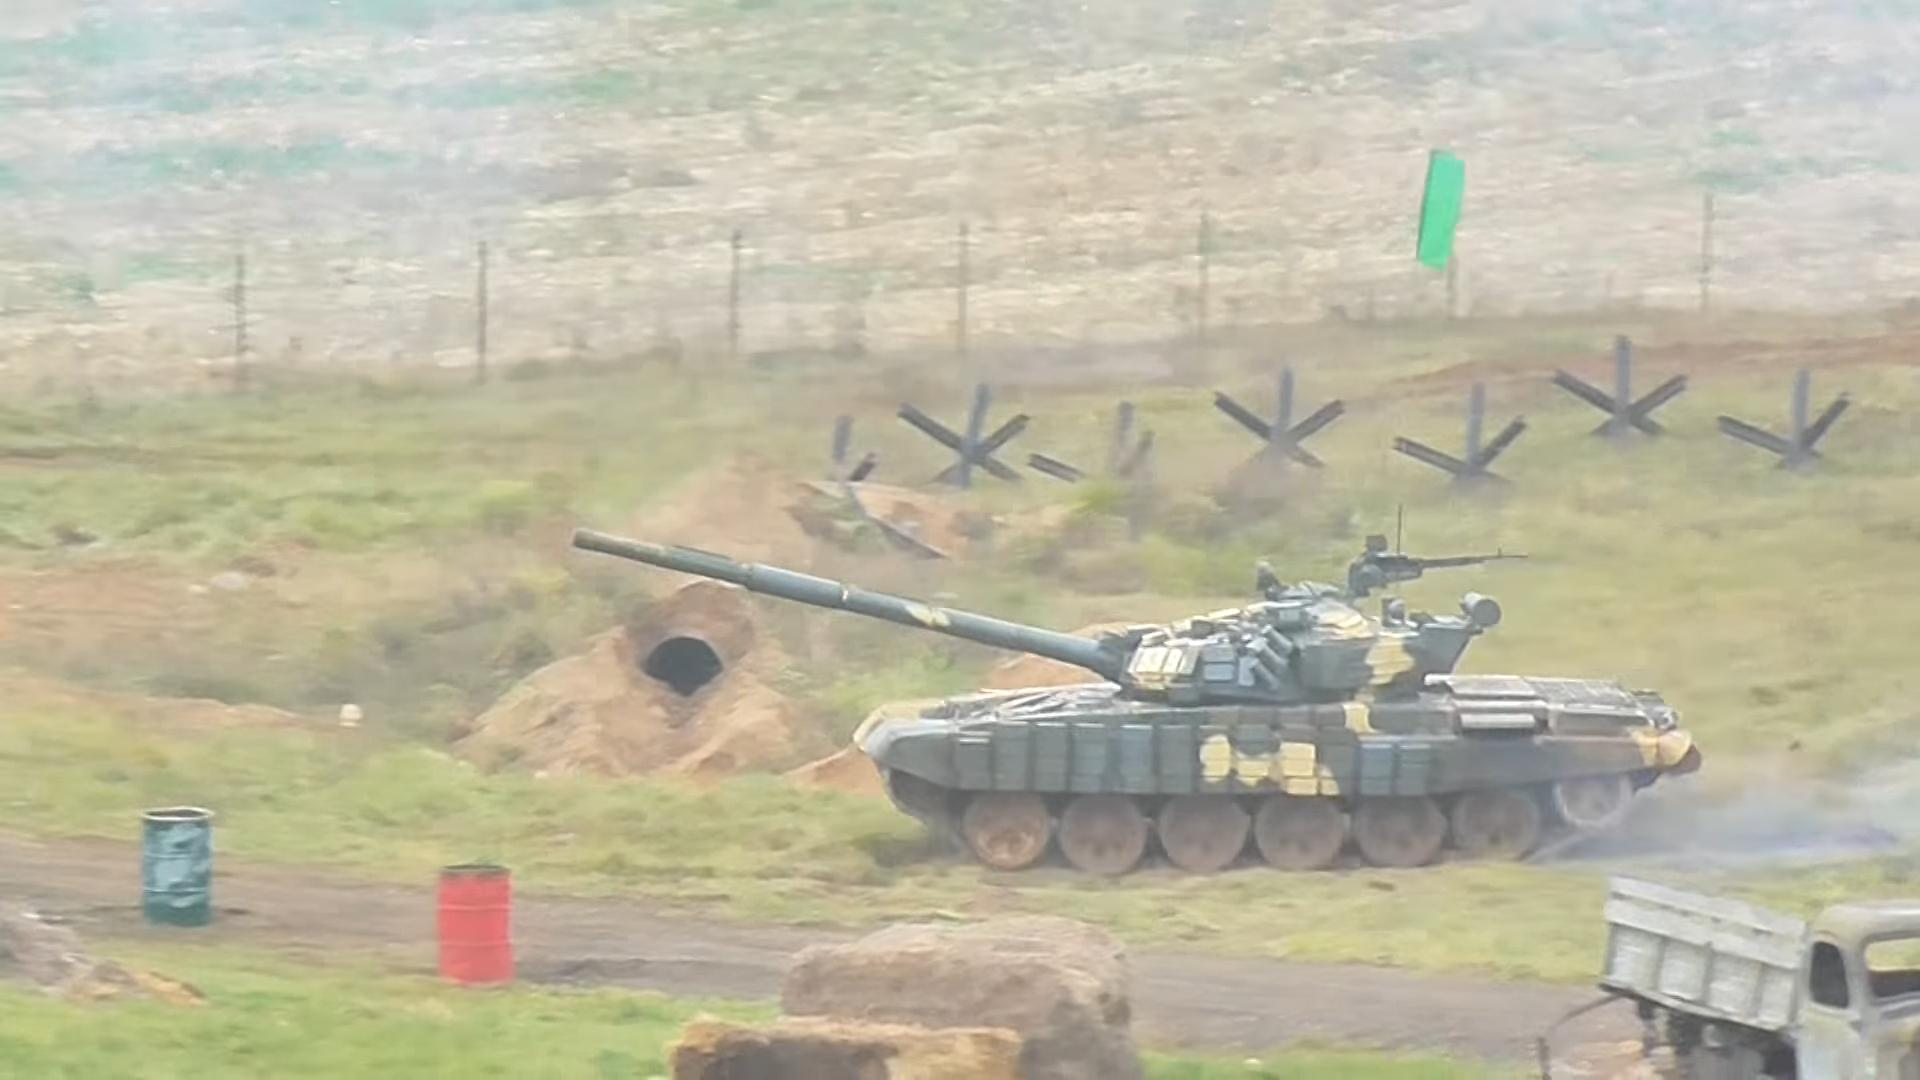tank: (570, 529, 1704, 869)
